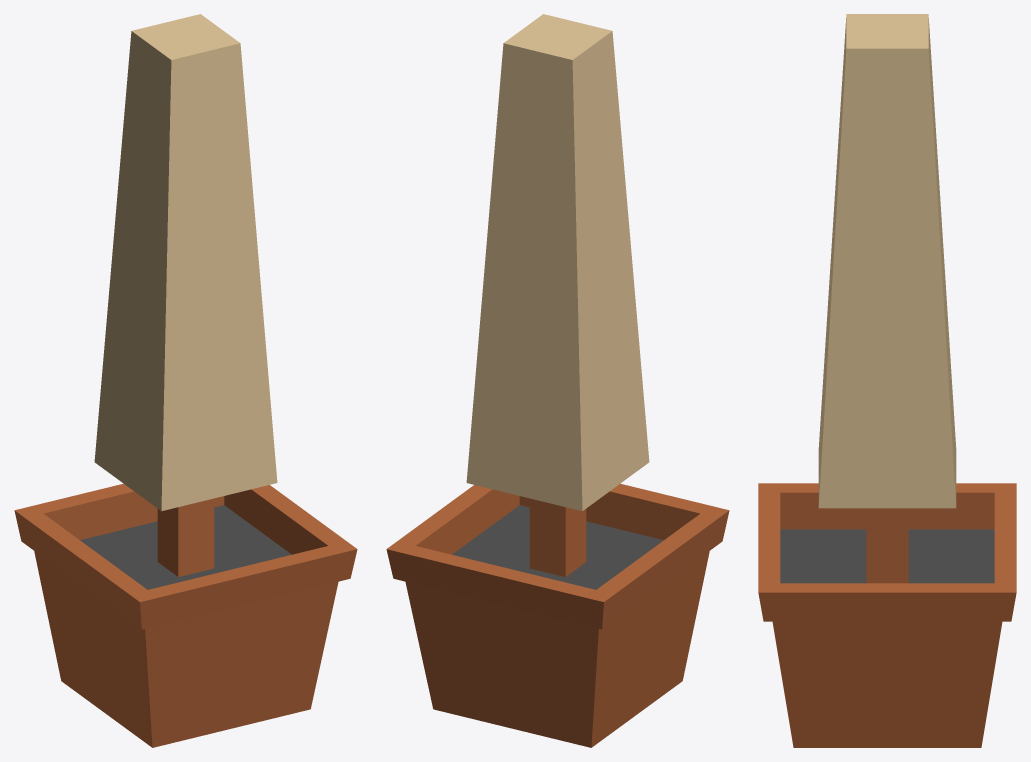
File: ornamental_plant.fbx
3 renders of one model, left to right at view 1: azimuth 30°, elevation 25°; view 2: azimuth 150°, elevation 25°; view 3: azimuth 270°, elevation 25°, orthographic. The views are drawn at different scales.
Parts seen in each view (by area): view 1: ornamental_plant; view 2: ornamental_plant; view 3: ornamental_plant.
Boxes of the visible parts, x1=… form: ornamental_plant: x1=14, y1=14, x2=357, y2=747; ornamental_plant: x1=386, y1=14, x2=729, y2=747; ornamental_plant: x1=758, y1=14, x2=1016, y2=747.
Size of the model in its own units: 161 by 465 by 161.
